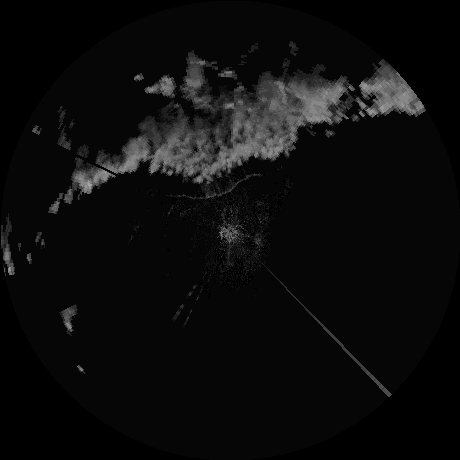frontgust: (172, 173, 260, 200)
